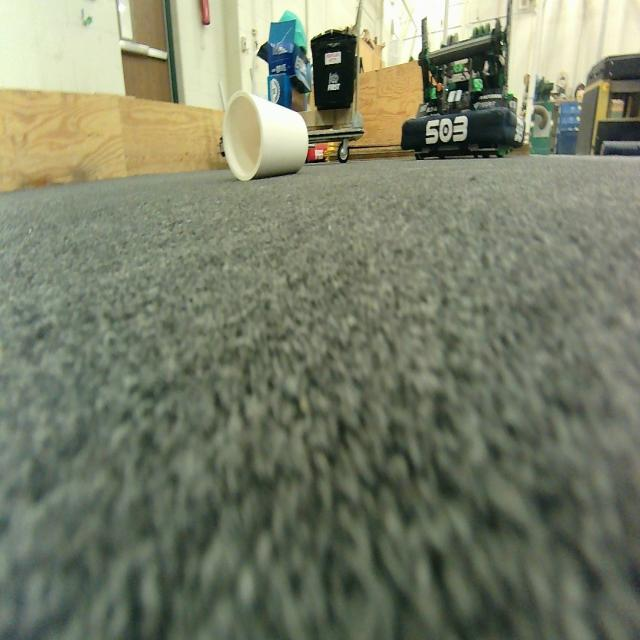coral: (222, 90, 308, 180)
